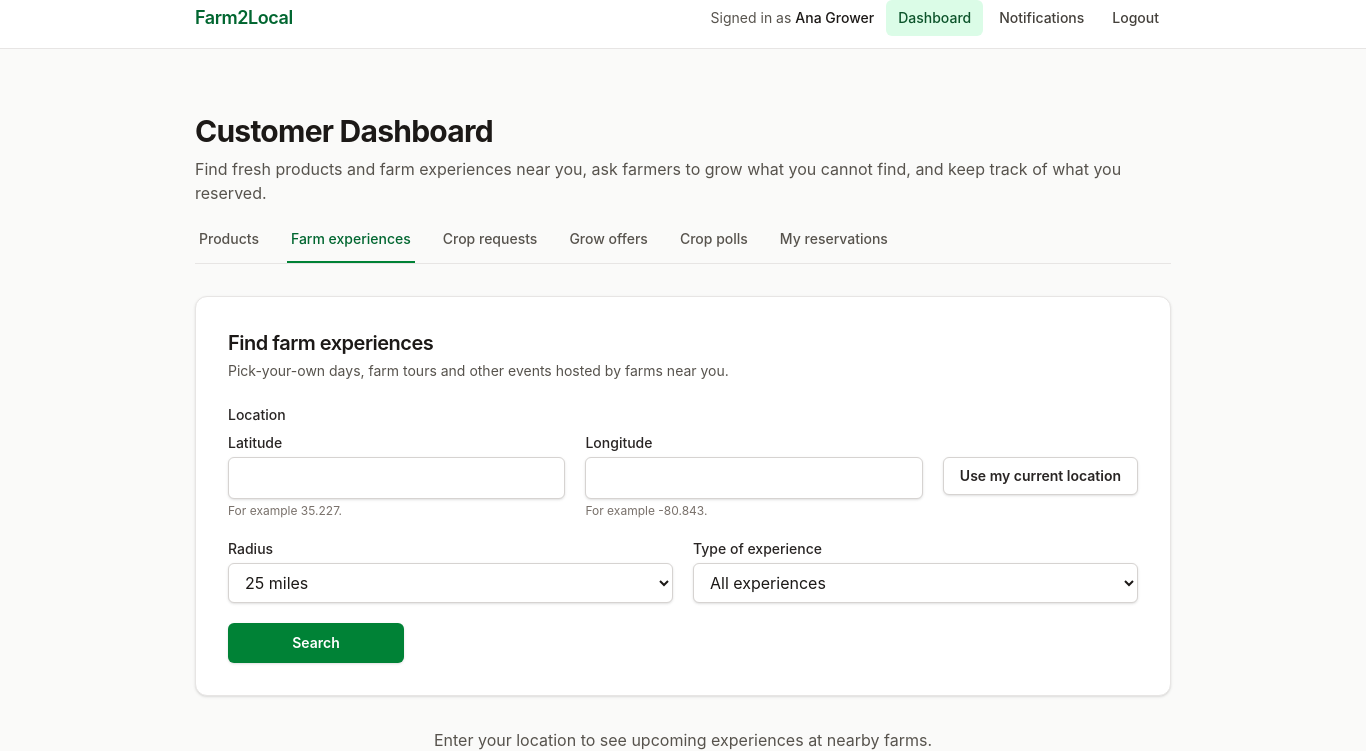
Test: reserving a farm experience › reserves places for the party and shows how many are left
This screenshot has width=1366, height=751.
Type "35.2271" into the field labelled "Latitude" at (397, 478), box [228,457,565,499]
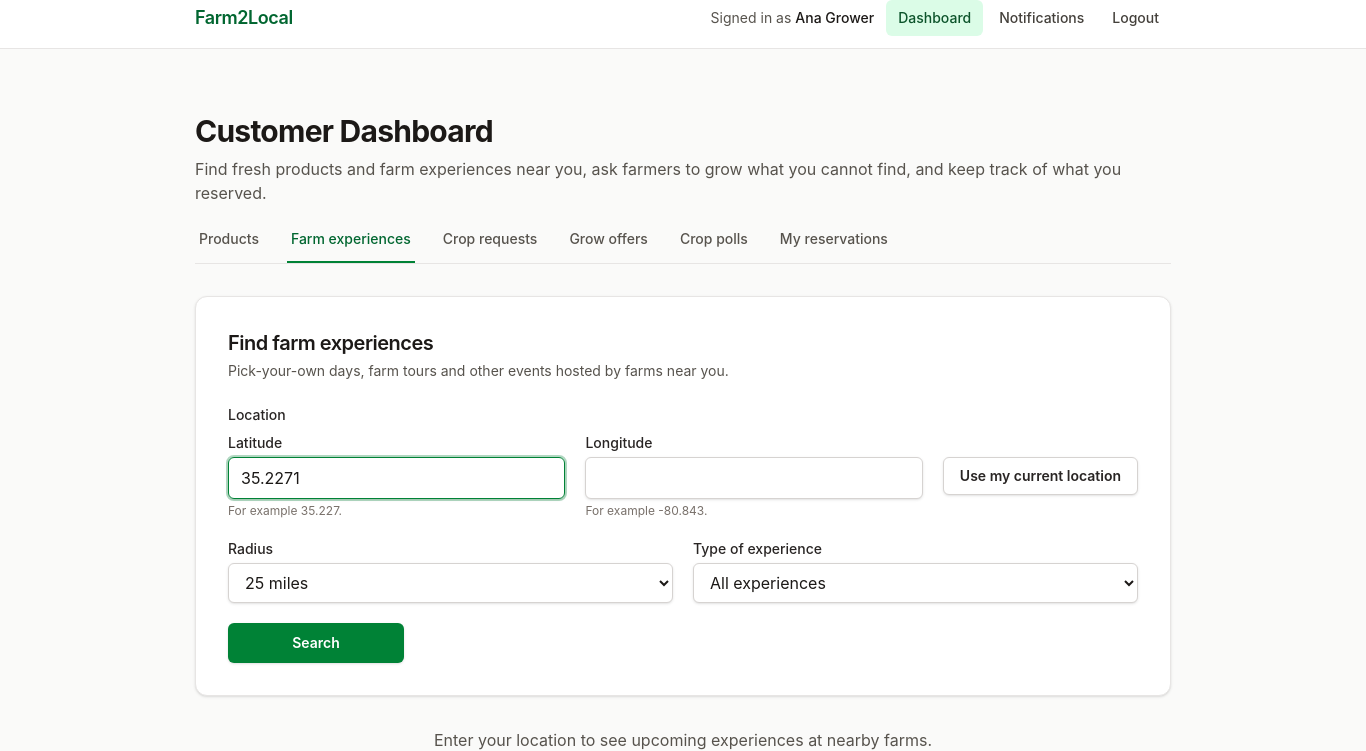
Type "-80.8431" into the field labelled "Longitude" at (754, 478), box [585,457,923,499]
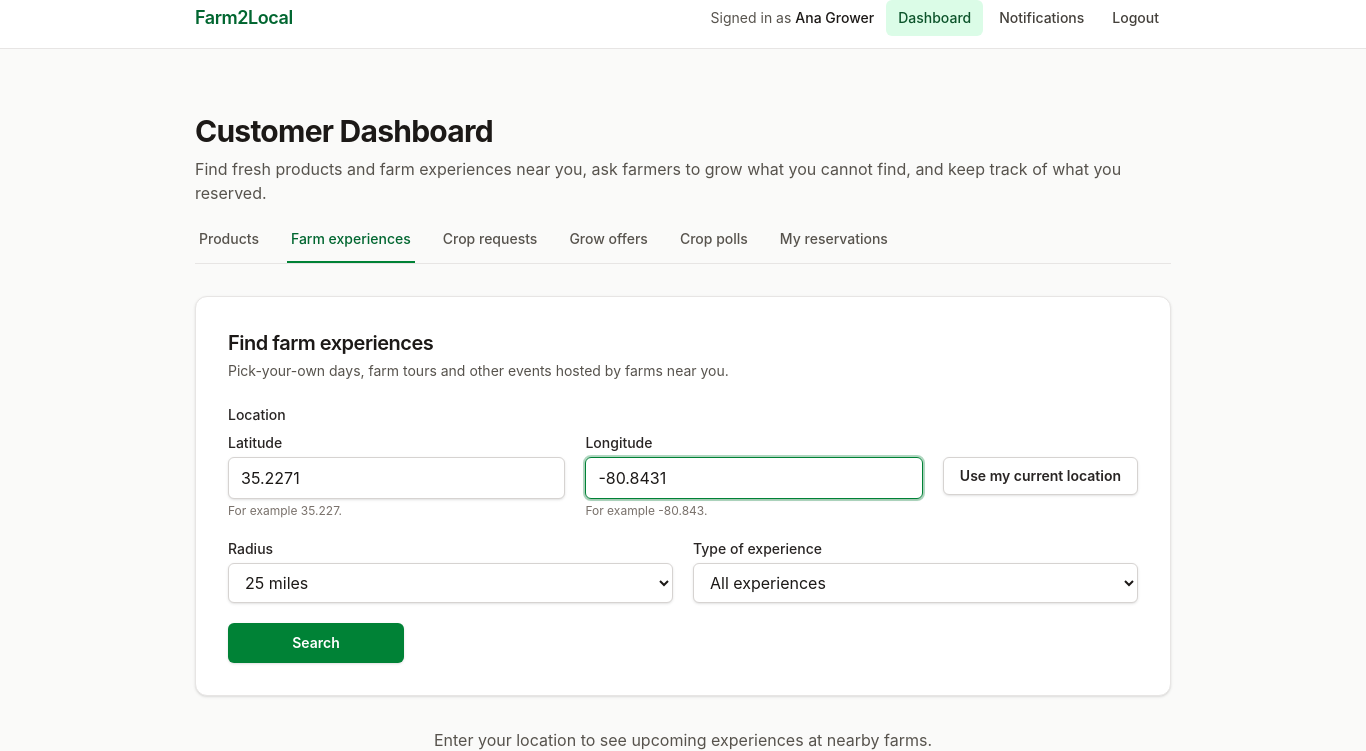
Click the button "Search" at (316, 643), box [228,623,404,663]
(page scrolled)
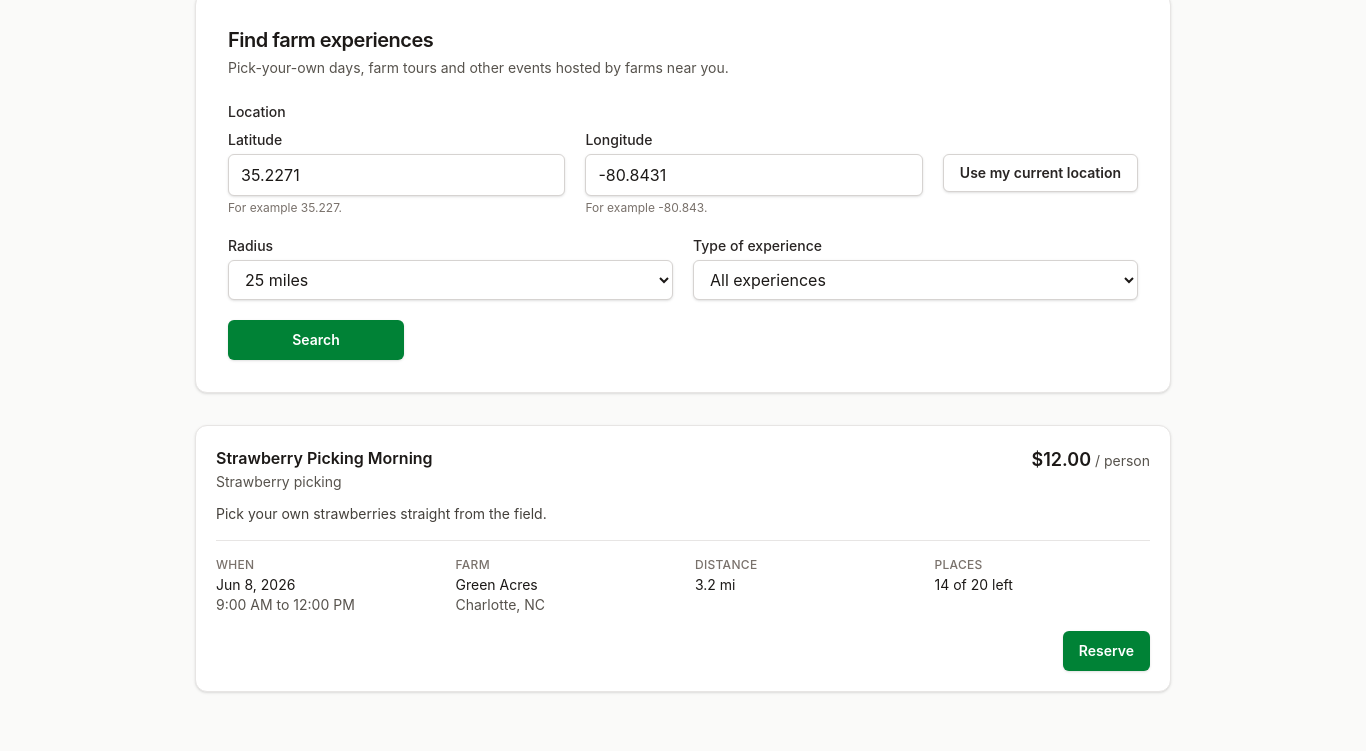
Click the button with aria-label "Reserve Strawberry Picking Morning" at (1106, 651), box [1063,631,1150,671]
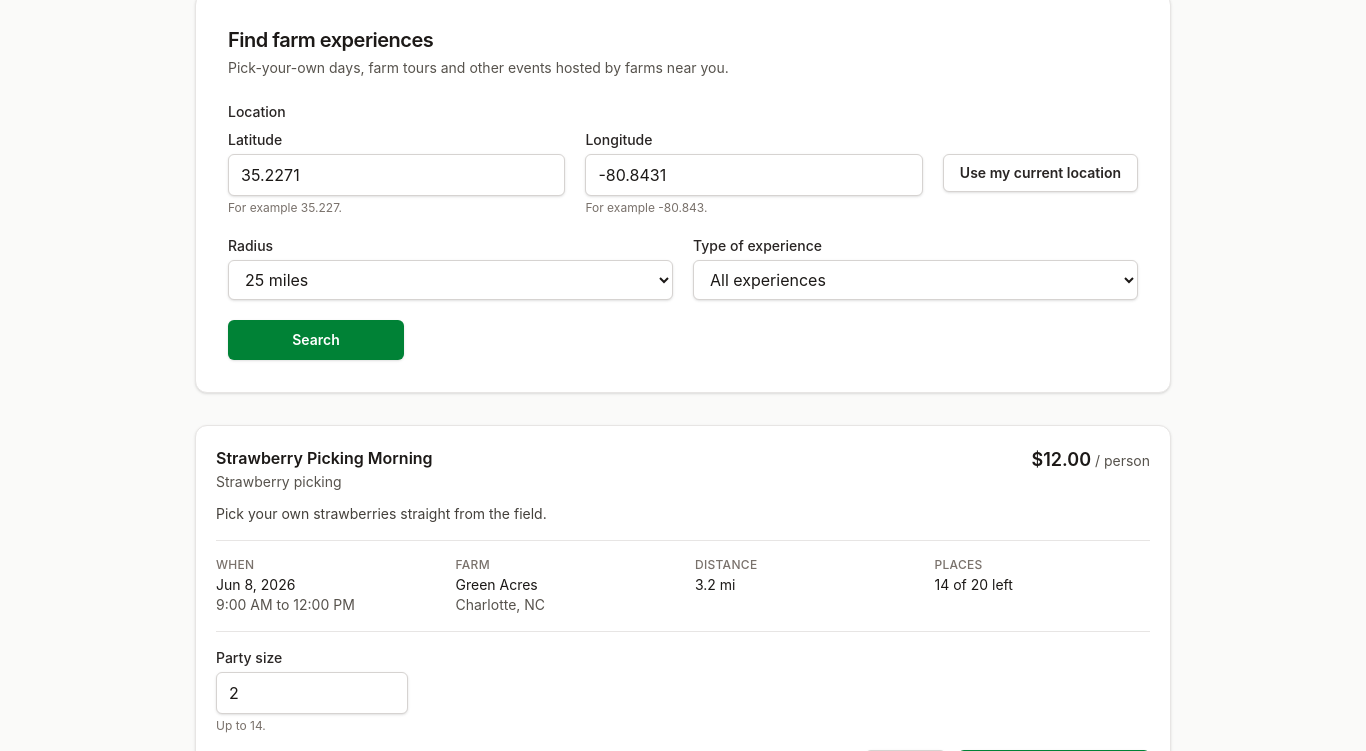
Replace the text in the field labelled "Party size" with "4" at (312, 693), box [216,672,408,714]
(page scrolled)
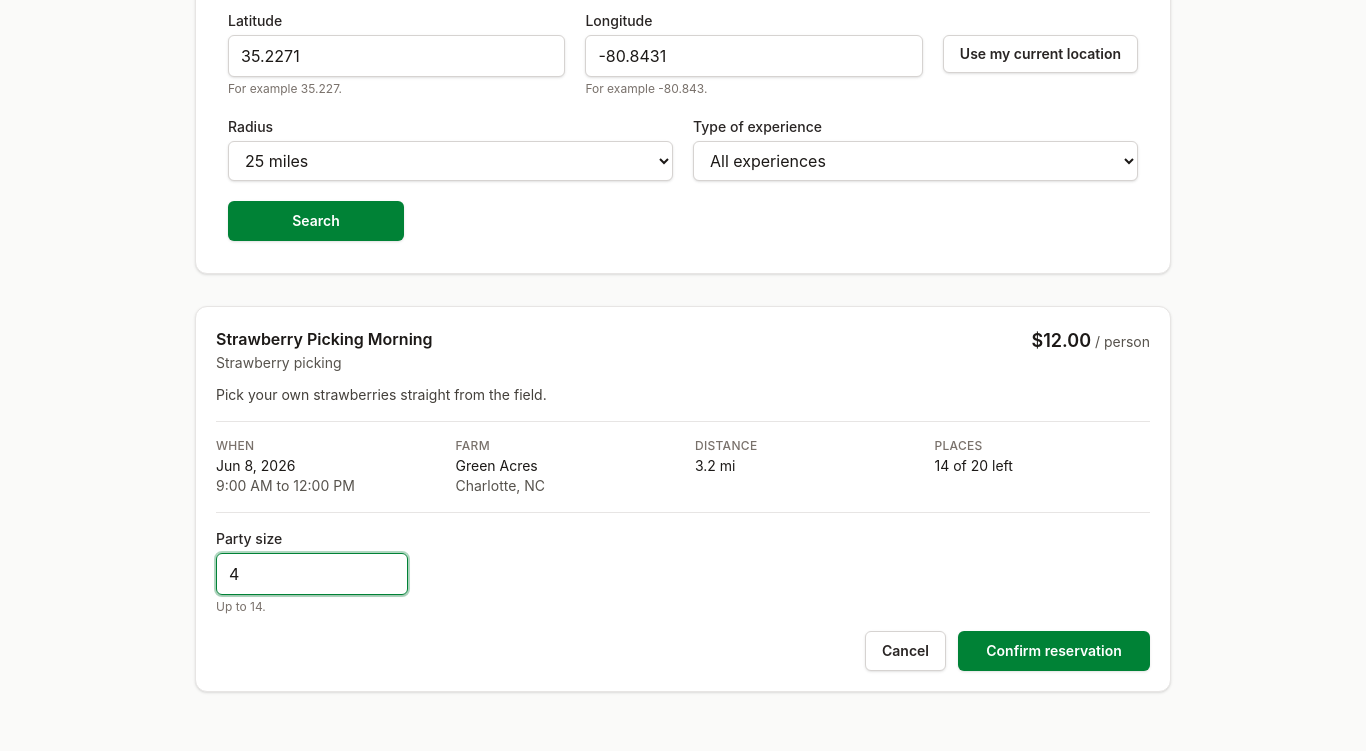
Click the button "Confirm reservation" at (1054, 651), box [958,631,1150,671]
(page scrolled)
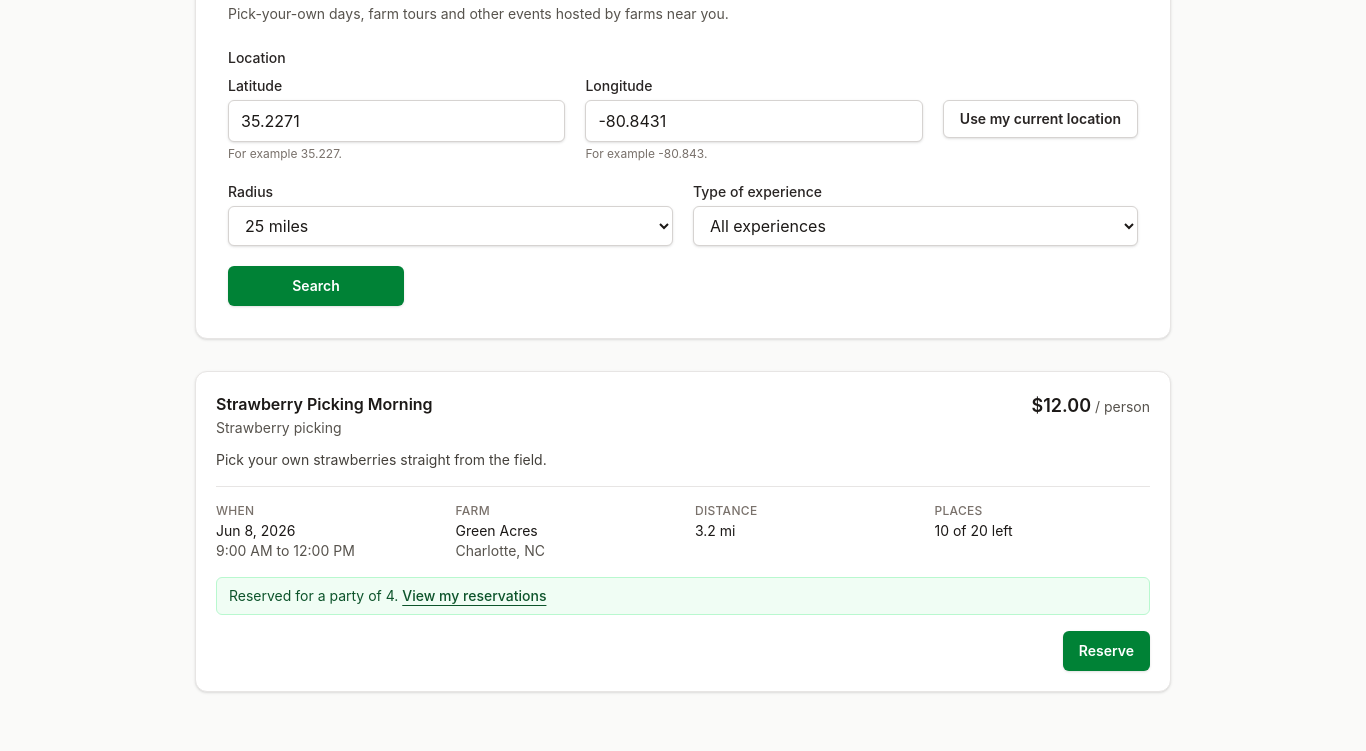
Check: the message shows "Reserved for a party of 4.", box [216,577,1150,615]
Check: the text "10 of 20 left" is shown, box [934,522,1013,539]
